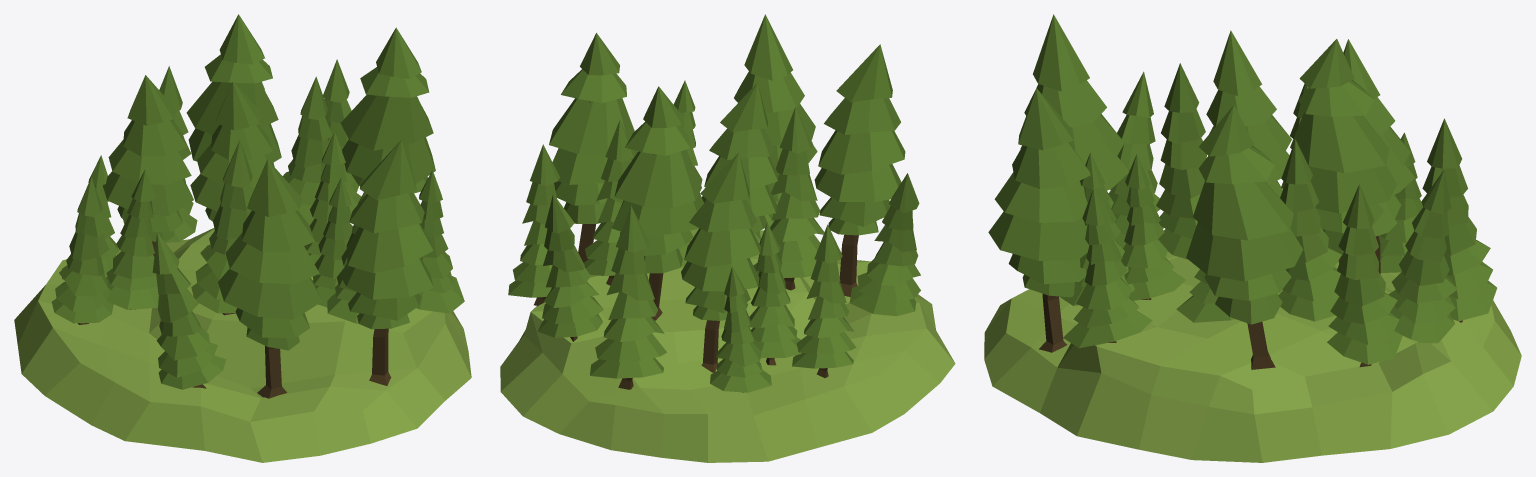
Rendered from nested pines large 2.fbx.
3 views of the same model, side by side, from view 1: azimuth 30°, elevation 25°; view 2: azimuth 150°, elevation 25°; view 3: azimuth 270°, elevation 25° (orthographic). The views are drawn at different scales.
Parts seen in each view (by area): view 1: nested pines2_LOD0; view 2: nested pines2_LOD0; view 3: nested pines2_LOD0.
Boxes of the visible parts, x1=… form: nested pines2_LOD0: x1=14, y1=14, x2=471, y2=462; nested pines2_LOD0: x1=500, y1=14, x2=955, y2=462; nested pines2_LOD0: x1=984, y1=14, x2=1521, y2=462.
Size of what is drawn, in the model's own units: 24.57 by 18.46 by 26.76.
